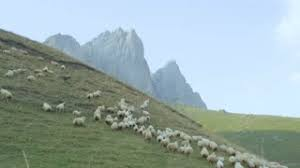sheep: (71, 114, 87, 126), (1, 87, 13, 102), (167, 139, 179, 153), (208, 151, 217, 167), (138, 114, 152, 124), (199, 145, 209, 158), (160, 135, 169, 149), (42, 101, 52, 112), (55, 100, 65, 111), (209, 140, 219, 151), (92, 111, 102, 121), (106, 104, 116, 114), (3, 69, 14, 78), (226, 146, 236, 155), (116, 108, 126, 117), (185, 143, 193, 154), (145, 128, 152, 140), (140, 101, 148, 110), (177, 145, 185, 154), (49, 59, 59, 66), (41, 64, 49, 72), (93, 89, 101, 97), (25, 73, 34, 80), (72, 108, 81, 115), (110, 121, 117, 130), (216, 160, 223, 168), (86, 91, 93, 98), (58, 63, 66, 69), (144, 97, 150, 103)
